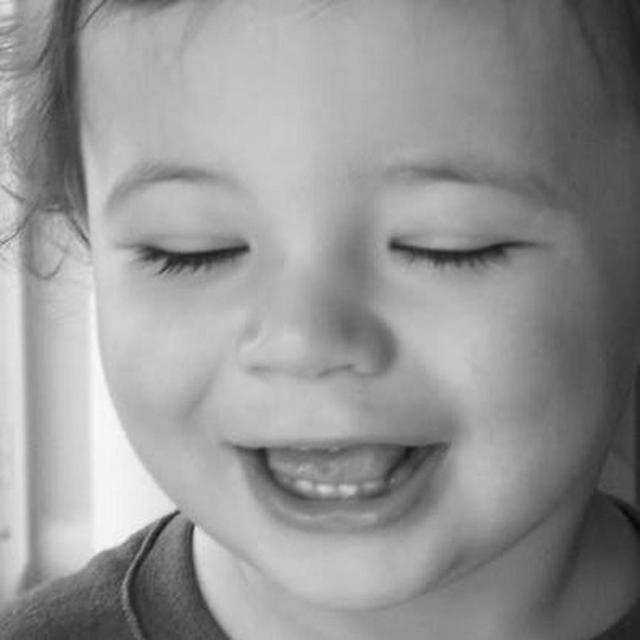real: (82, 43, 640, 610), (102, 190, 576, 292)
